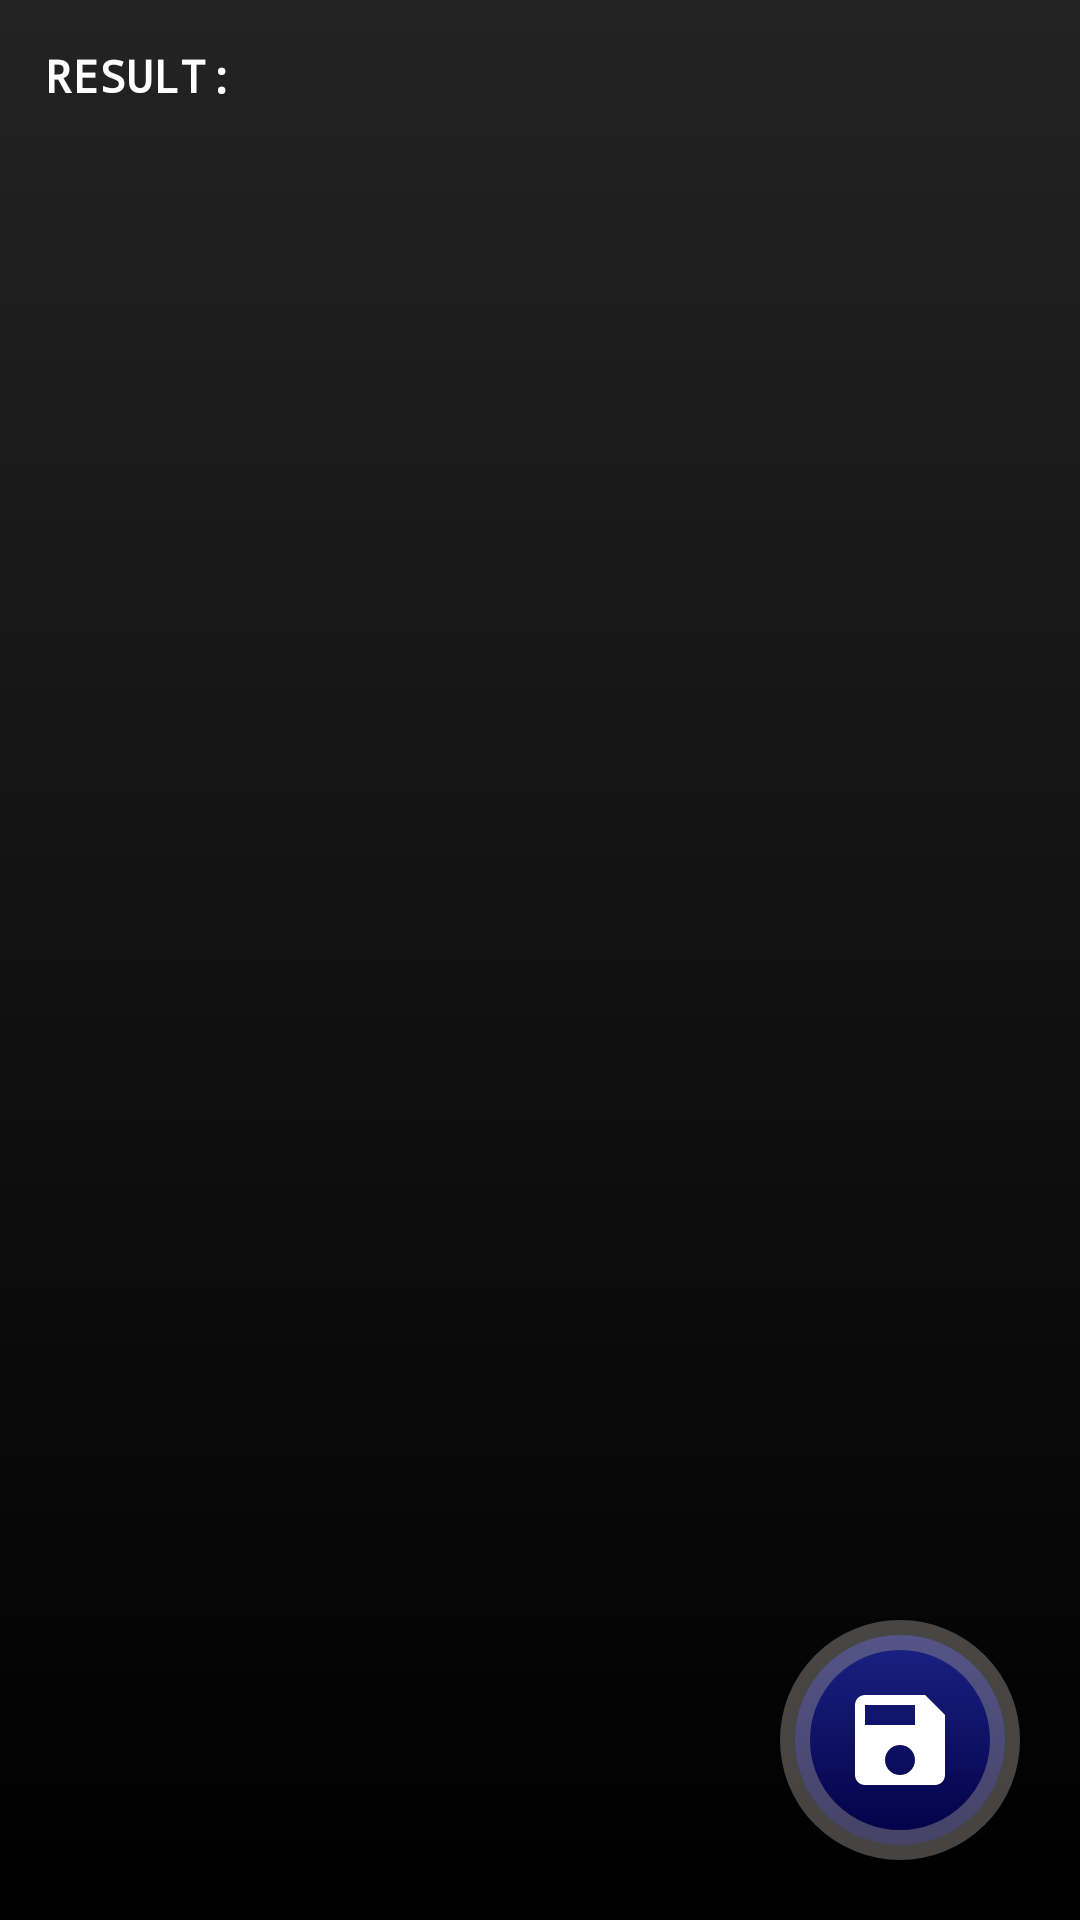

Point at icon controls on the screen. Image size 1080 × 1920, points as (x,y).
save: (900,1740)
